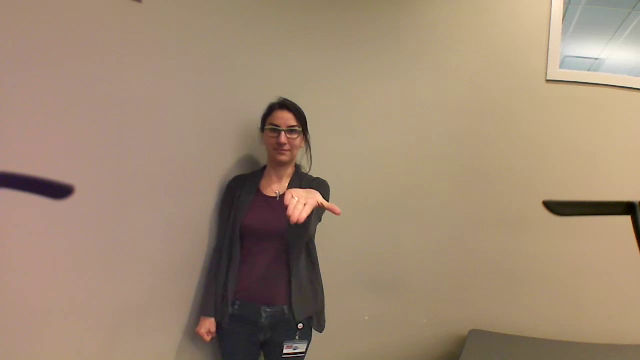land: (281, 184, 345, 231)
